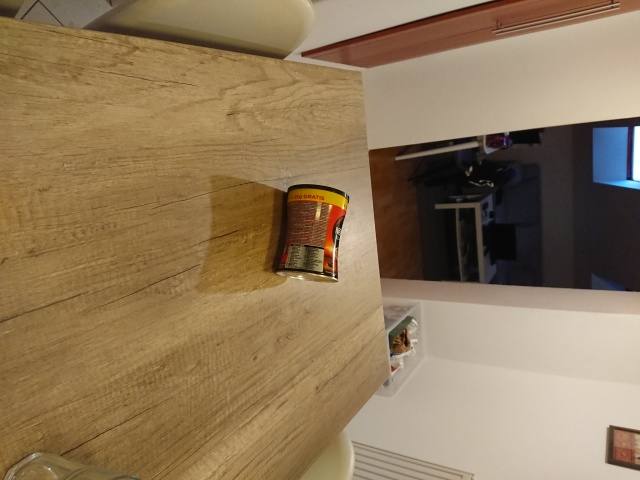Nescafe Classic 225g: (269, 180, 353, 286)
